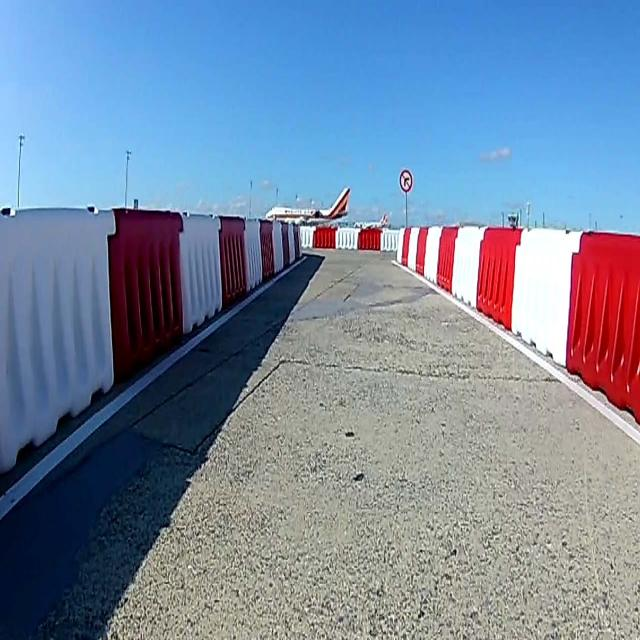sagadonulmez: (400, 172, 413, 191)
